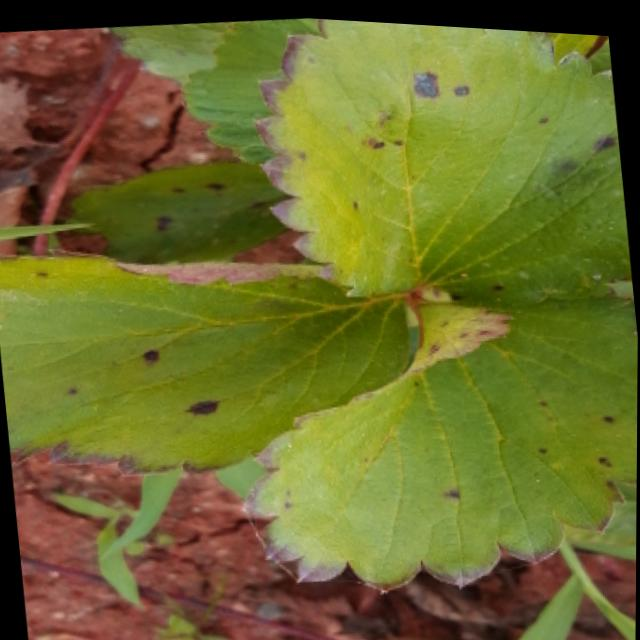Leaf Spot: (245, 285, 638, 589), (250, 15, 633, 298), (0, 247, 417, 476), (74, 157, 291, 261), (107, 18, 242, 87)
